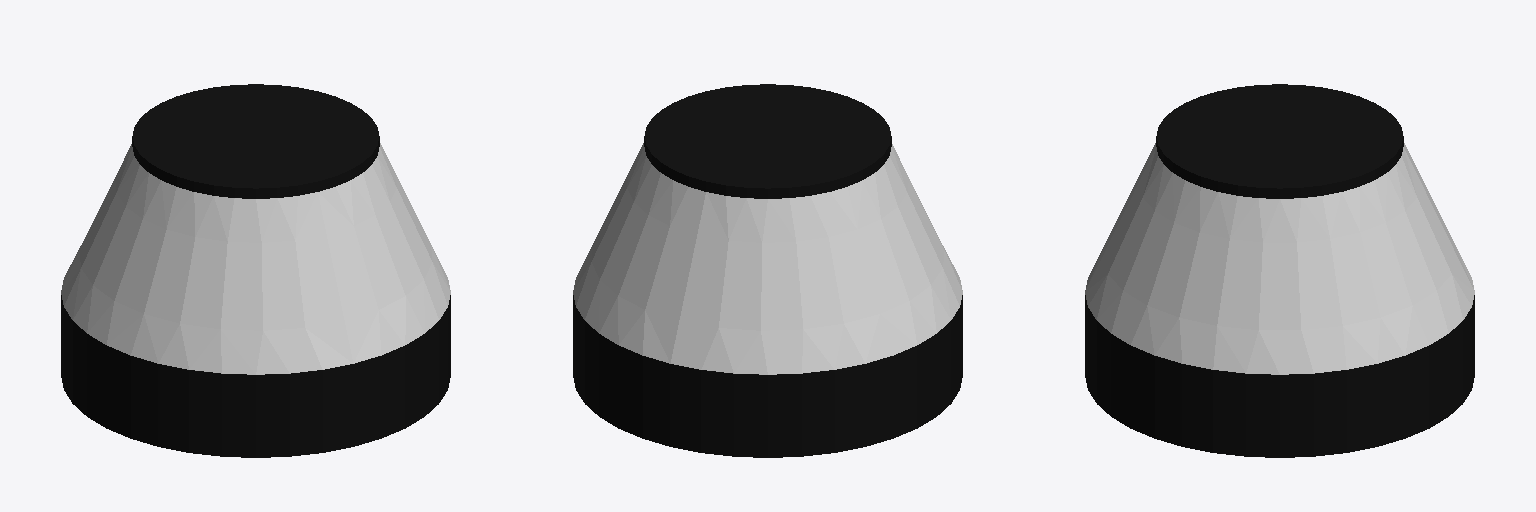
Rendered from kogeto.obj.
3 renders of one model, left to right at view 1: azimuth 30°, elevation 25°; view 2: azimuth 150°, elevation 25°; view 3: azimuth 270°, elevation 25°, orthographic.
Visible parts, largest first — view 1: kogeto; view 2: kogeto; view 3: kogeto.
Part boxes in pixels (x1,y1,x2,y2): kogeto: (61,84,450,457); kogeto: (573,84,962,457); kogeto: (1085,84,1474,457).
Size of the model in its own units: 0.034 by 0.023 by 0.034.